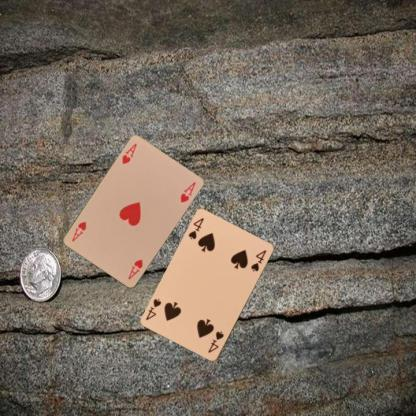4s: (206, 328, 226, 354), (186, 216, 206, 240)
Ah: (125, 257, 144, 281), (120, 141, 138, 166)
